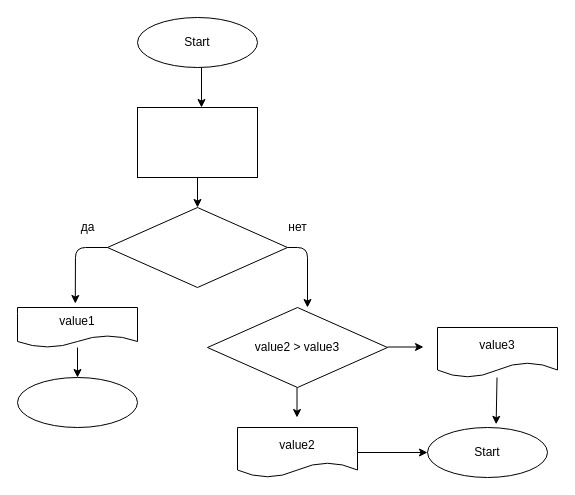
Image size: 575x495. Some labels were removed from this diagram. The shapes that lost their labels are listed below. From the top down, each one's box as (x1, y1, x2, y2) in pixels, then its label:
(136, 106, 258, 178): value1 = 2 value2 = 3 value3 = 7
(106, 206, 288, 288): value1 > value2 value1>value3
(16, 376, 138, 428): END
